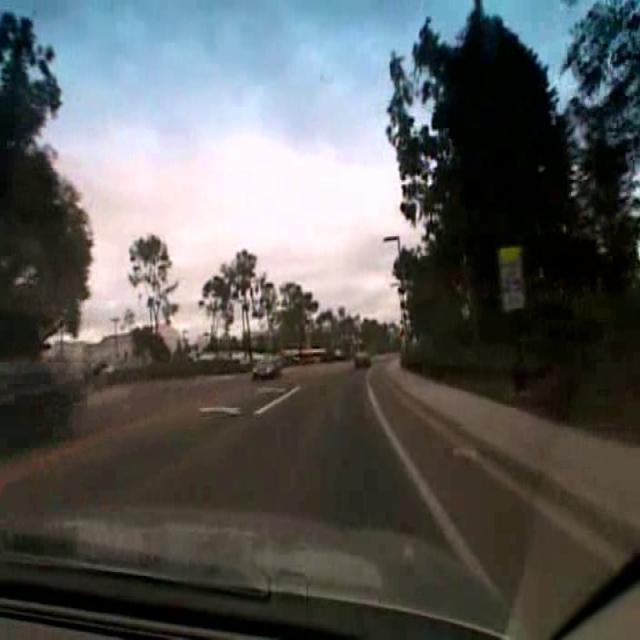speedLimit25: (499, 244, 525, 311)
